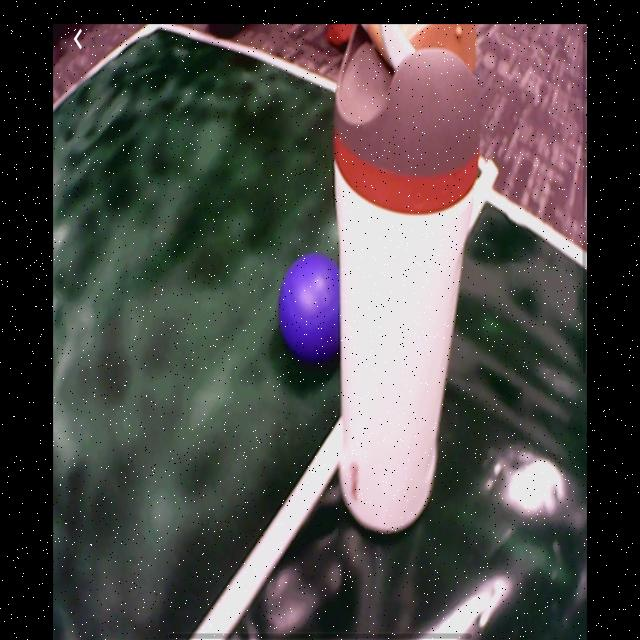ball: (281, 257, 343, 363)
